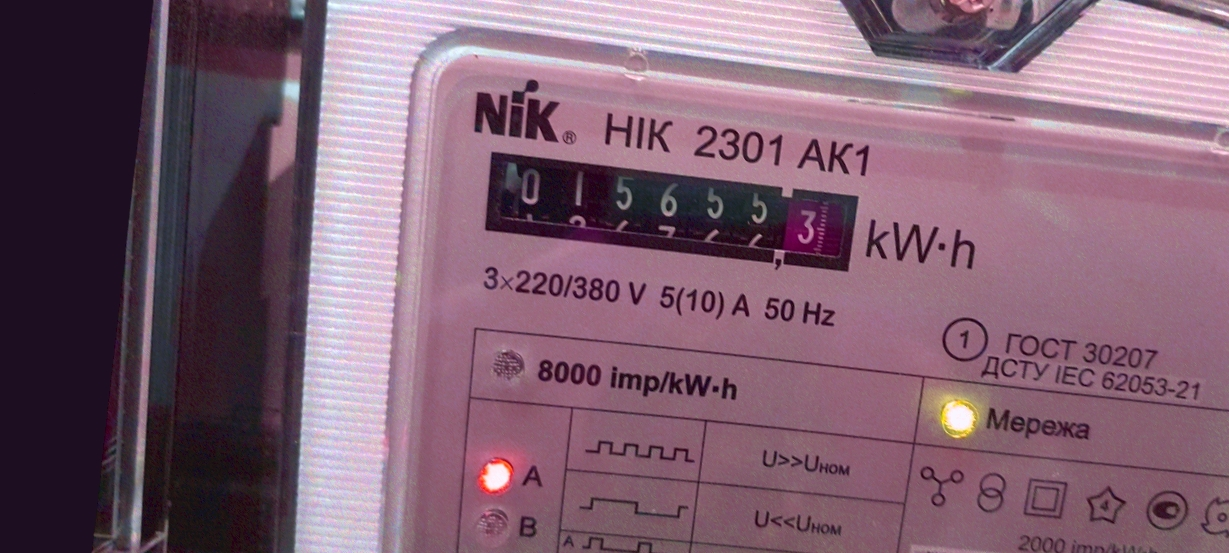0: (515, 164, 544, 208)
1: (567, 169, 589, 210)
3: (794, 208, 817, 246)
5: (609, 175, 636, 213), (701, 187, 727, 221), (748, 192, 770, 226)
6: (655, 181, 682, 219)
screen: (466, 135, 874, 289)
